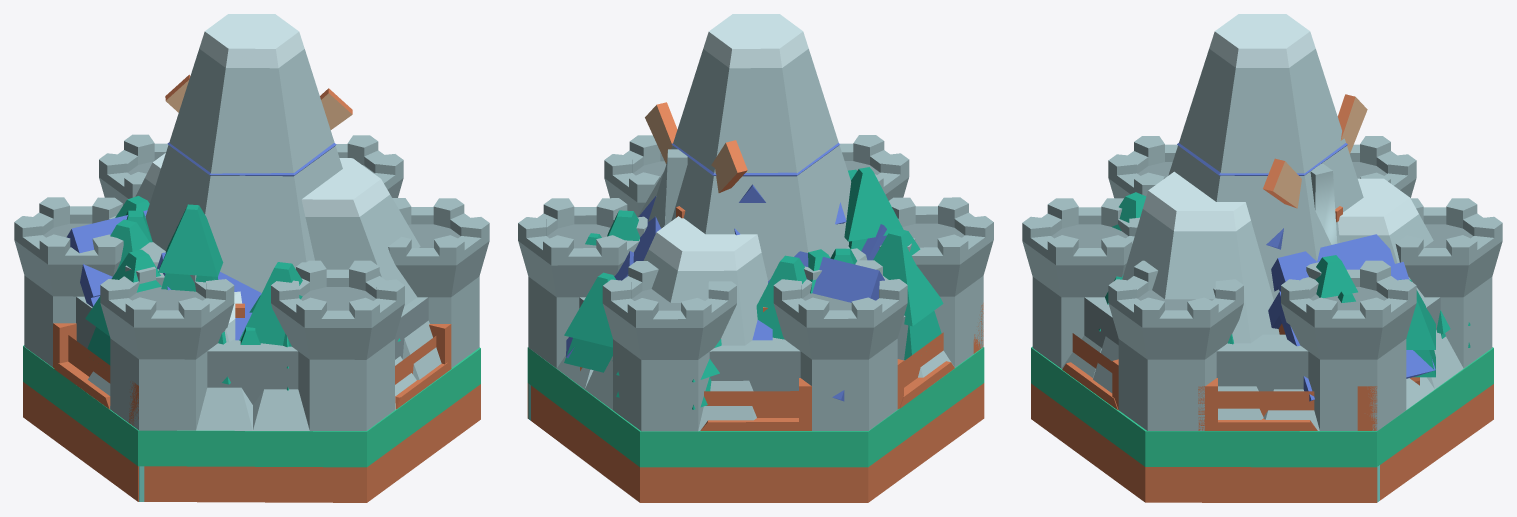
Rendered from HexMix_Scene.fbx.
3 renders of one model, left to right at view 1: azimuth 30°, elevation 25°; view 2: azimuth 150°, elevation 25°; view 3: azimuth 270°, elevation 25°, orthographic.
Visible parts, largest first — view 1: SM_Building_Castle, SM_Stone_Mountain, SM_Building_Tower, SM_Building_Cabin, SM_Building_Mill, SM_Building_Sheep, SM_Grass_Forest, SM_Building_Dock, SM_Building_Village, SM_Path_Corner, SM_Building_Market; view 2: SM_Building_Castle, SM_Stone_Mountain, SM_Building_Tower, SM_Building_Mill, SM_Building_Cabin, SM_Building_Sheep, SM_Building_Market, SM_Building_Village, SM_Building_Dock, SM_Grass_Forest, SM_Path_Straight, SM_Path_Corner (+1 smaller); view 3: SM_Building_Castle, SM_Stone_Mountain, SM_Building_Tower, SM_Building_Village, SM_Building_Sheep, SM_Building_Mill, SM_Grass_Forest, SM_Building_Water, SM_Building_Cabin, SM_Building_Market, SM_Path_Intersection, SM_Path_Corner.
Part boxes in pixels (x1=…): SM_Building_Castle: x1=14, y1=134, x2=489, y2=430; SM_Stone_Mountain: x1=88, y1=14, x2=441, y2=430; SM_Building_Tower: x1=23, y1=142, x2=480, y2=502; SM_Building_Cabin: x1=158, y1=204, x2=288, y2=390; SM_Building_Mill: x1=85, y1=74, x2=352, y2=365; SM_Building_Sheep: x1=53, y1=323, x2=450, y2=425; SM_Grass_Forest: x1=126, y1=210, x2=302, y2=346; SM_Building_Dock: x1=66, y1=210, x2=260, y2=312; SM_Building_Village: x1=115, y1=196, x2=451, y2=367; SM_Path_Corner: x1=54, y1=362, x2=451, y2=409; SM_Building_Market: x1=110, y1=219, x2=251, y2=340; SM_Building_Castle: x1=518, y1=135, x2=993, y2=431; SM_Stone_Mountain: x1=557, y1=14, x2=953, y2=431; SM_Building_Tower: x1=527, y1=143, x2=984, y2=502; SM_Building_Mill: x1=645, y1=102, x2=943, y2=409; SM_Building_Cabin: x1=585, y1=149, x2=903, y2=250; SM_Building_Sheep: x1=704, y1=303, x2=983, y2=430; SM_Building_Market: x1=564, y1=248, x2=856, y2=372; SM_Building_Village: x1=633, y1=196, x2=886, y2=339; SM_Building_Dock: x1=768, y1=251, x2=884, y2=401; SM_Grass_Forest: x1=607, y1=169, x2=856, y2=293; SM_Path_Straight: x1=700, y1=418, x2=809, y2=430; SM_Path_Corner: x1=899, y1=361, x2=954, y2=408; SM_Building_Castle: x1=1022, y1=136, x2=1502, y2=430; SM_Stone_Mountain: x1=1061, y1=14, x2=1463, y2=430; SM_Building_Tower: x1=1031, y1=143, x2=1493, y2=502; SM_Building_Village: x1=1112, y1=234, x2=1394, y2=430; SM_Building_Sheep: x1=1072, y1=333, x2=1377, y2=430; SM_Building_Mill: x1=1263, y1=94, x2=1367, y2=249; SM_Grass_Forest: x1=1112, y1=192, x2=1357, y2=344; SM_Building_Water: x1=1268, y1=262, x2=1450, y2=401; SM_Building_Cabin: x1=1310, y1=163, x2=1355, y2=302; SM_Building_Market: x1=1400, y1=279, x2=1435, y2=377; SM_Path_Intersection: x1=1063, y1=362, x2=1317, y2=430; SM_Path_Corner: x1=1062, y1=362, x2=1118, y2=410.
Bounding box in the file's own units: 2.09 × 2.17 × 2.44.
